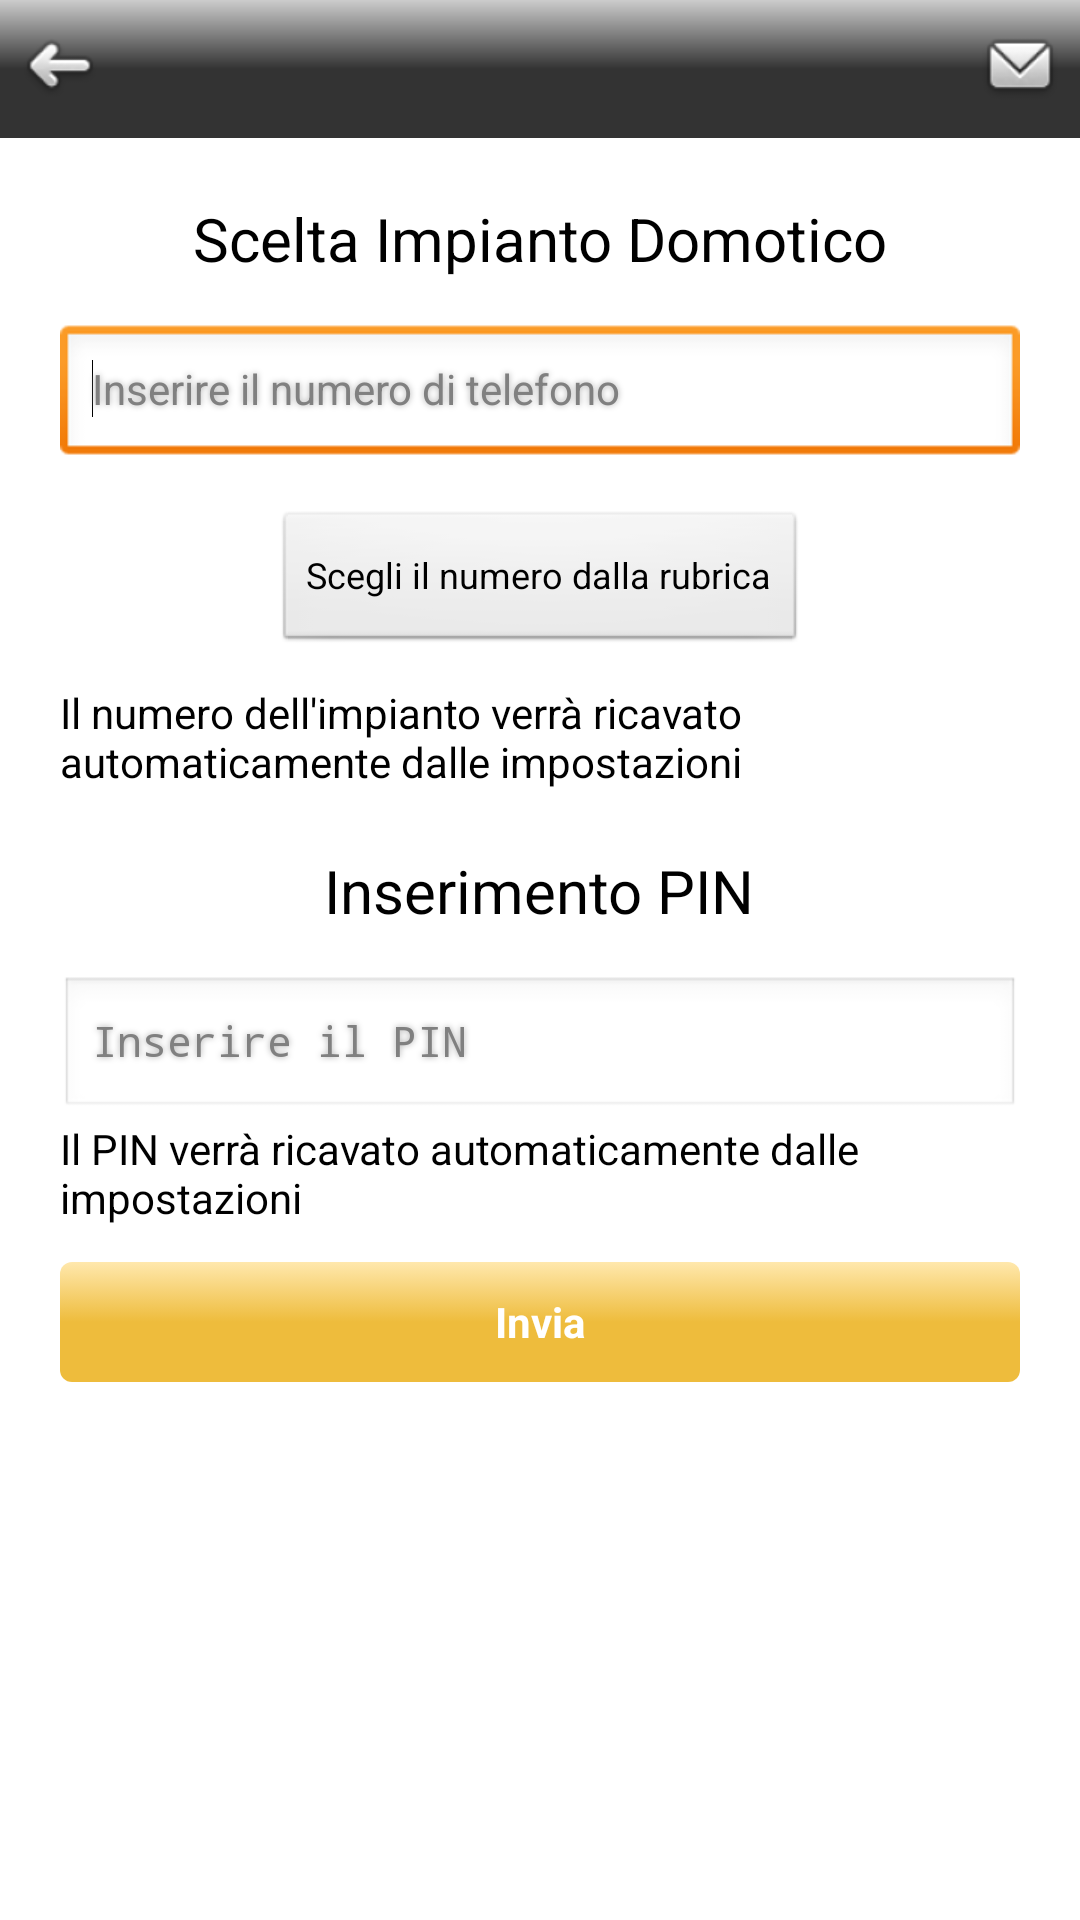

Icon click points for this 1080 × 1920 phone screenshot, format point (x, y):
back: point (60, 69)
send: point (1020, 69)
